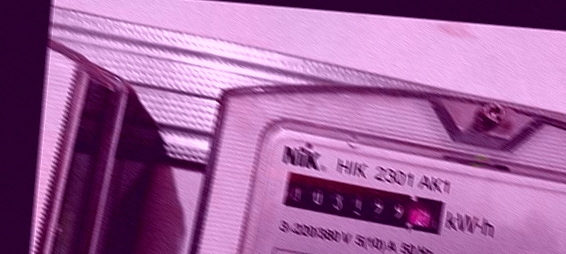0: (287, 184, 302, 204), (310, 187, 323, 207)
1: (352, 191, 362, 211)
3: (331, 192, 341, 212)
6: (412, 214, 424, 230)
9: (371, 197, 382, 216), (391, 203, 402, 222)
screen: (274, 168, 451, 243)
